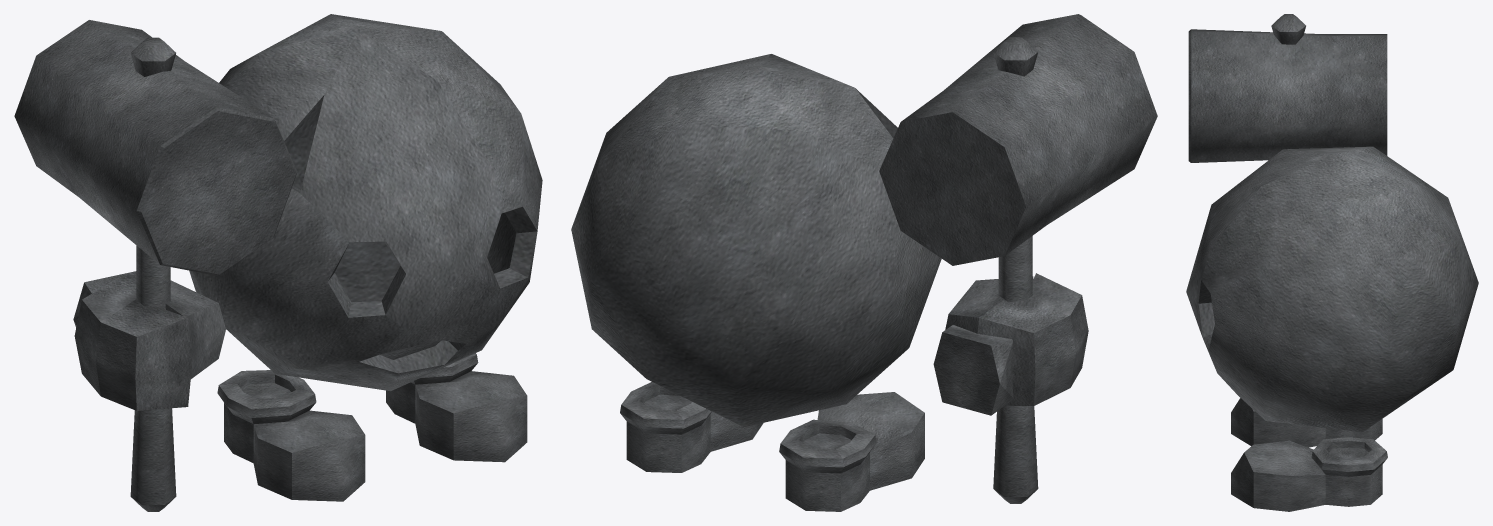
Rendered from Statue_HammerMan02.FBX.
The picture shows the model from 3 angles, left to right: view 1: azimuth 30°, elevation 25°; view 2: azimuth 150°, elevation 25°; view 3: azimuth 270°, elevation 25°; orthographic projection. The views are drawn at different scales.
Parts seen in each view (by area): view 1: Statue_HammerMan02, Statue_HammerMan_Hand001, Statue_HammerMan_Shoe002, Statue_HammerMan_Shoe003; view 2: Statue_HammerMan02, Statue_HammerMan_Hand001, Statue_HammerMan_Shoe002, Statue_HammerMan_Shoe003; view 3: Statue_HammerMan02, Statue_HammerMan_Hand001, Statue_HammerMan_Shoe003, Statue_HammerMan_Shoe002.
Part boxes in pixels (x1,y1,x2,y2): Statue_HammerMan02: (189, 14, 542, 391); Statue_HammerMan_Hand001: (14, 20, 297, 511); Statue_HammerMan_Shoe002: (217, 370, 365, 501); Statue_HammerMan_Shoe003: (386, 353, 527, 462); Statue_HammerMan02: (571, 54, 941, 426); Statue_HammerMan_Hand001: (879, 14, 1157, 503); Statue_HammerMan_Shoe002: (779, 392, 924, 511); Statue_HammerMan_Shoe003: (620, 382, 763, 472); Statue_HammerMan02: (1186, 146, 1478, 432); Statue_HammerMan_Hand001: (1188, 14, 1387, 162); Statue_HammerMan_Shoe003: (1231, 437, 1387, 511); Statue_HammerMan_Shoe002: (1231, 398, 1382, 447).
Size of the model in its own units: 3021 by 2853 by 2103.
